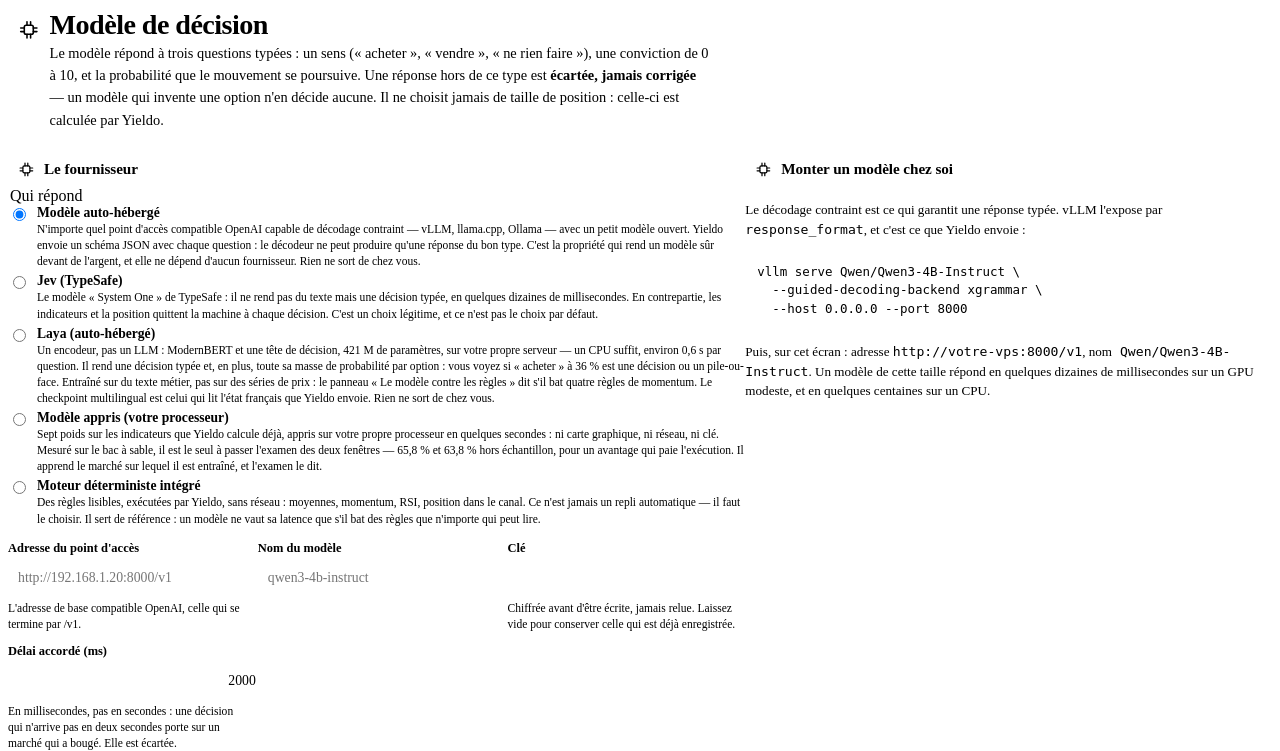
Scenario: Modèle de décision — le modèle appris › says what a refused verdict means rather than showing figures alone
Click the radio button labelled "Modèle appris": (20, 420) [13,413,26,426]
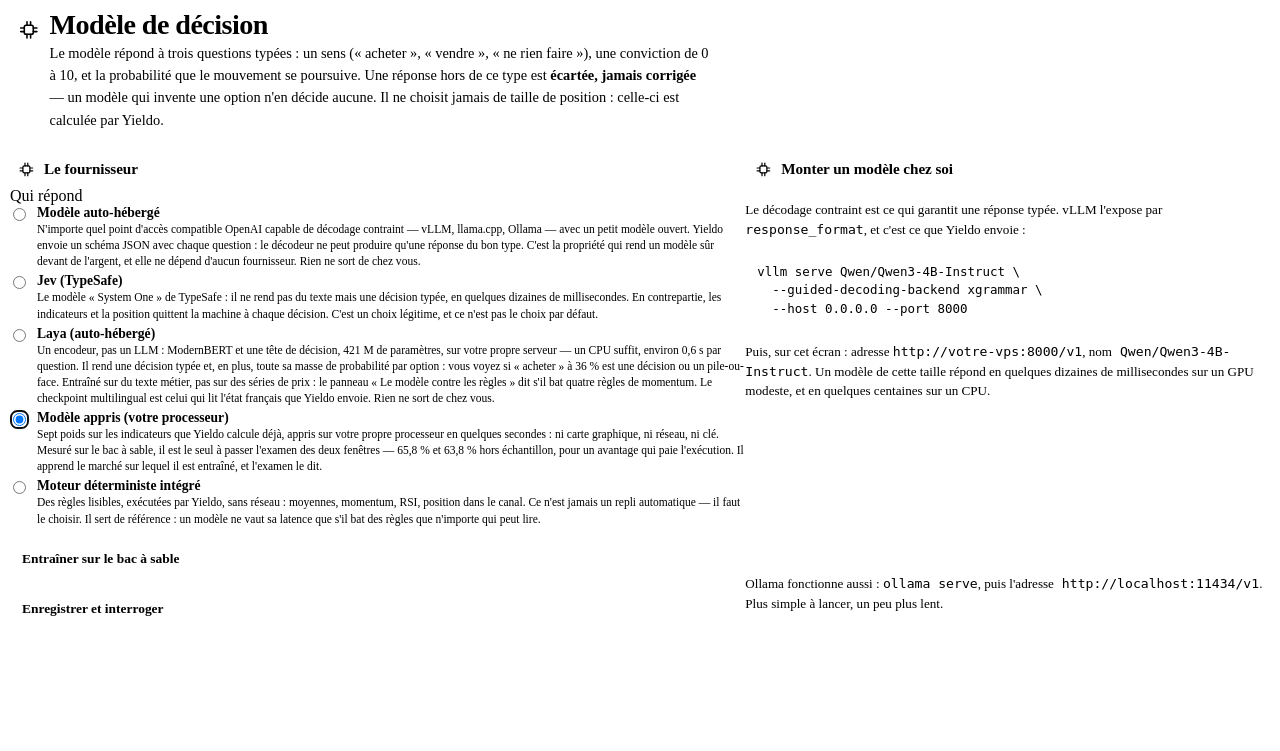
Click the button "Entraîner sur le bac à sable": (101, 559) [8,541,193,577]
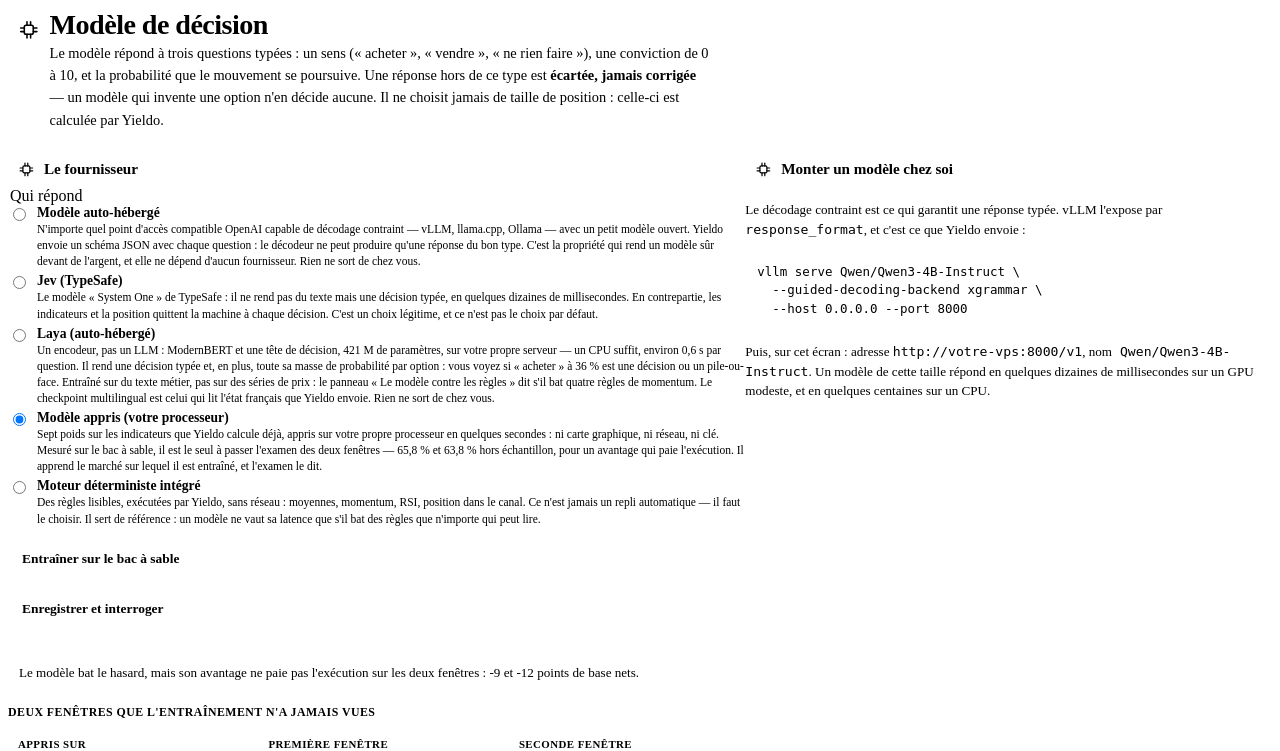
Now the text "ne paie pas l'exécution" is shown, box [19,665,639,680]
